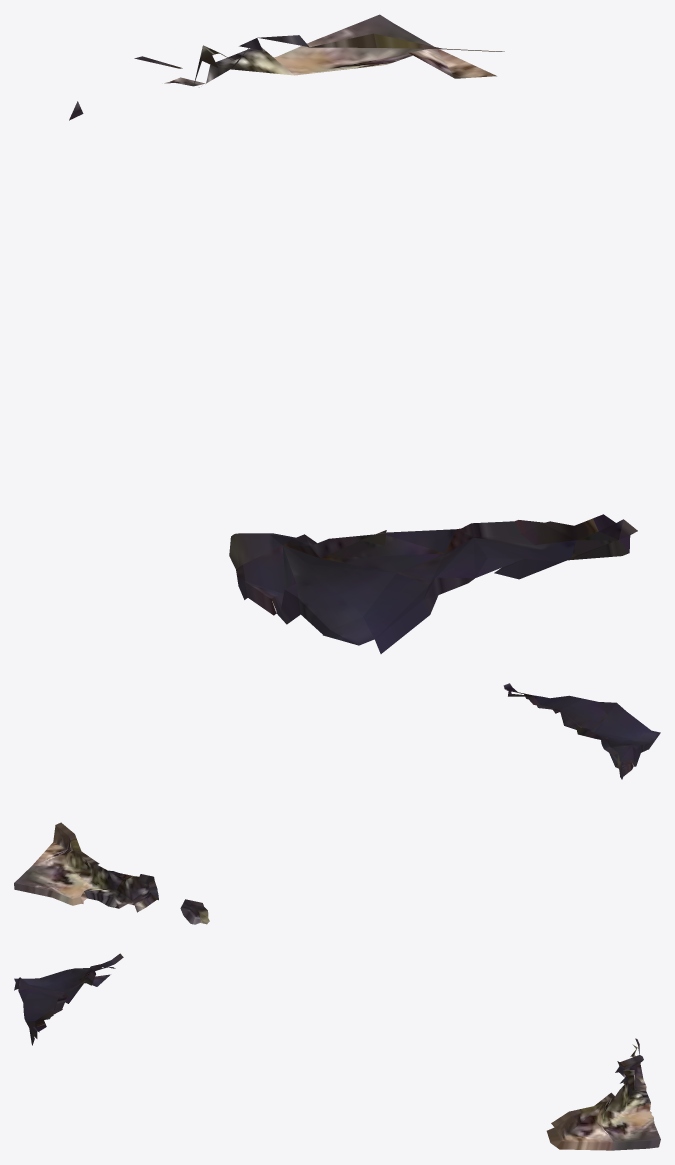
The picture shows the model from 3 angles, top to bottom: view 1: azimuth 30°, elevation 25°; view 2: azimuth 150°, elevation 25°; view 3: azimuth 270°, elevation 25°; orthographic projection. The views are drawn at different scales.
Visible parts, largest first — view 1: Mesh_0; view 2: Mesh_0; view 3: Mesh_0.
Boxes of the visible parts, x1=… form: Mesh_0: x1=69, y1=14, x2=637, y2=653; Mesh_0: x1=14, y1=683, x2=660, y2=924; Mesh_0: x1=14, y1=953, x2=660, y2=1150.
Size of the model in its own units: 26.29 by 2.35 by 41.28.
1 material, 1 textured.
